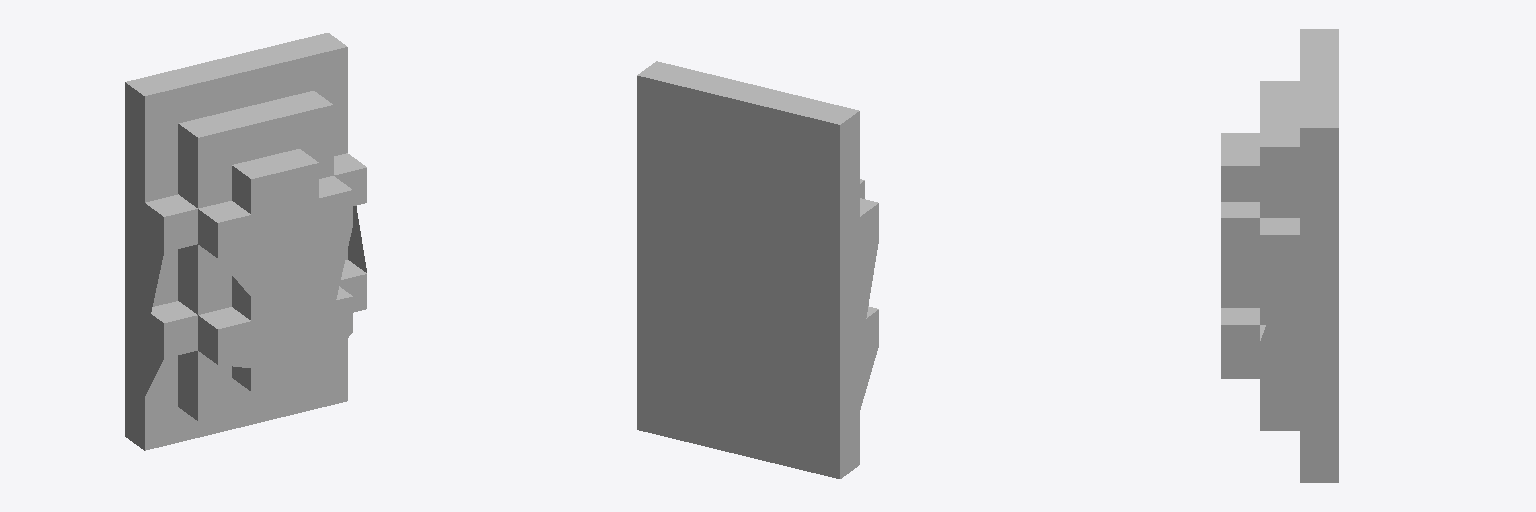
Rendered from Shield_3.obj.
3 views of the same model, side by side, from view 1: azimuth 30°, elevation 25°; view 2: azimuth 150°, elevation 25°; view 3: azimuth 270°, elevation 25° (orthographic).
Parts seen in each view (by area): view 1: Shield_3_Shield_3.001; view 2: Shield_3_Shield_3.001; view 3: Shield_3_Shield_3.001.
Part boxes in pixels (left/top/right/bottom): Shield_3_Shield_3.001: left=125, top=33, right=366, bottom=450; Shield_3_Shield_3.001: left=637, top=61, right=878, bottom=478; Shield_3_Shield_3.001: left=1221, top=29, right=1338, bottom=482.
Size of the model in its own units: 0.6 by 1 by 0.3.